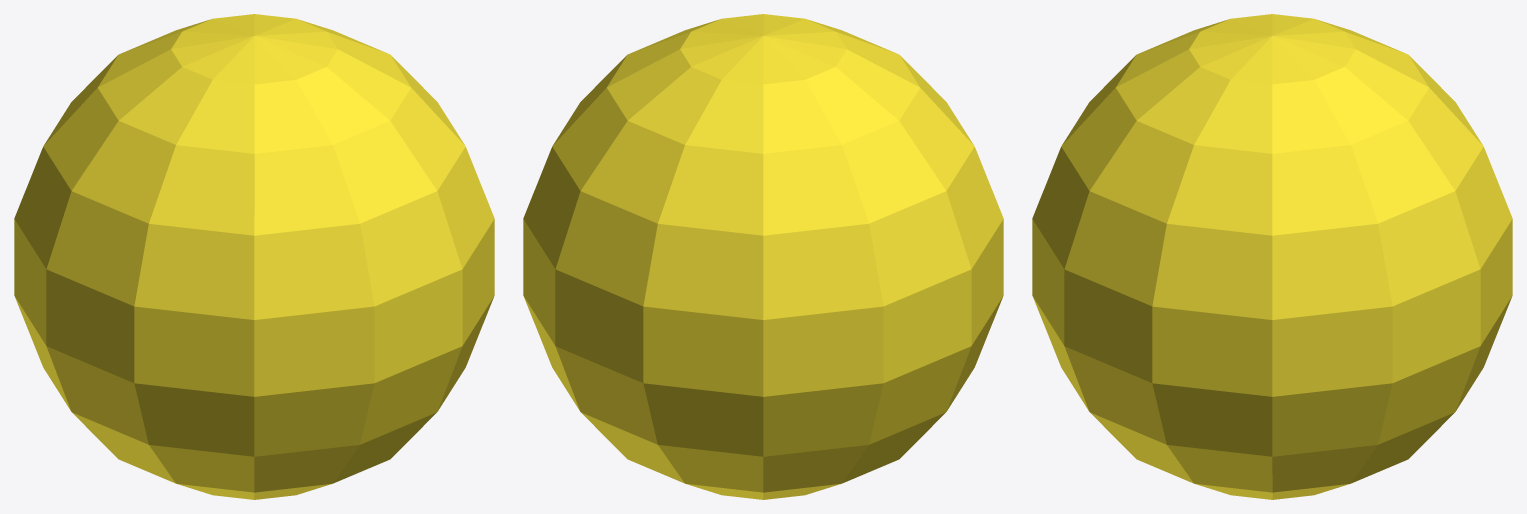
Rendered from Sun.glb.
The picture shows the model from 3 angles, left to right: view 1: azimuth 30°, elevation 25°; view 2: azimuth 150°, elevation 25°; view 3: azimuth 270°, elevation 25°; orthographic projection.
Parts seen in each view (by area): view 1: group646701568; view 2: group646701568; view 3: group646701568.
Part boxes in pixels (x1=…): group646701568: x1=14, y1=14, x2=494, y2=499; group646701568: x1=523, y1=14, x2=1003, y2=499; group646701568: x1=1032, y1=14, x2=1512, y2=499.
Size of the model in its own units: 1.37 by 1.39 by 1.37.
